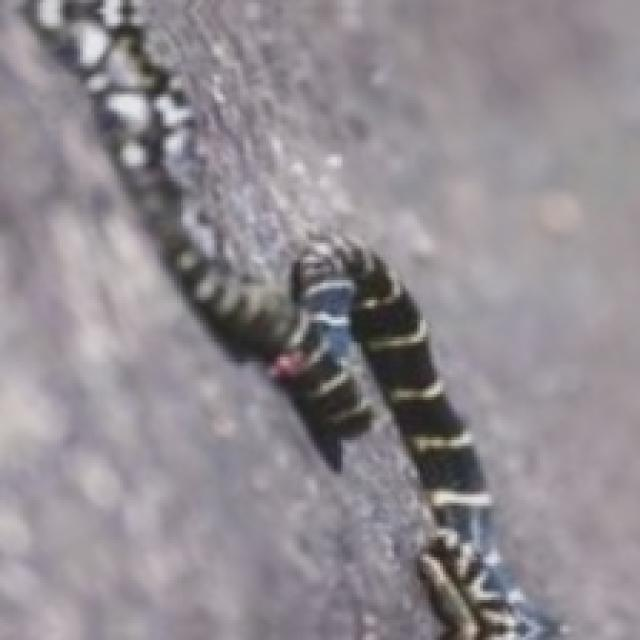king cobra: (0, 3, 437, 637)
